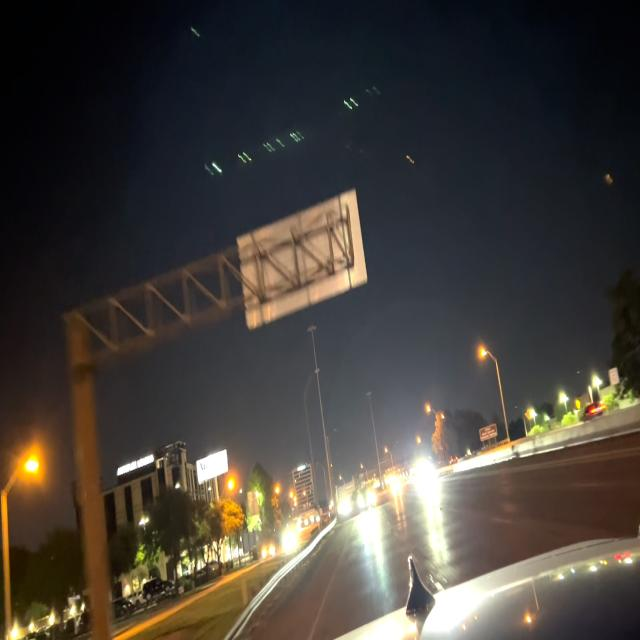back-of-sign: (236, 189, 371, 331)
